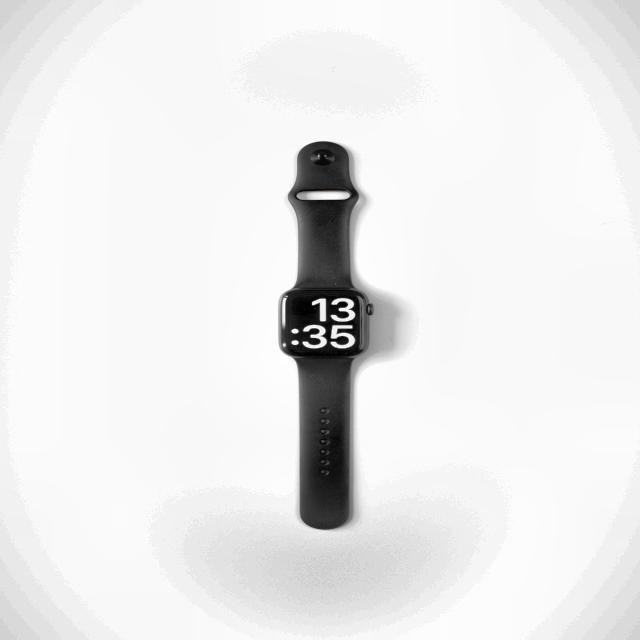Electronic watch: (278, 141, 373, 529)
